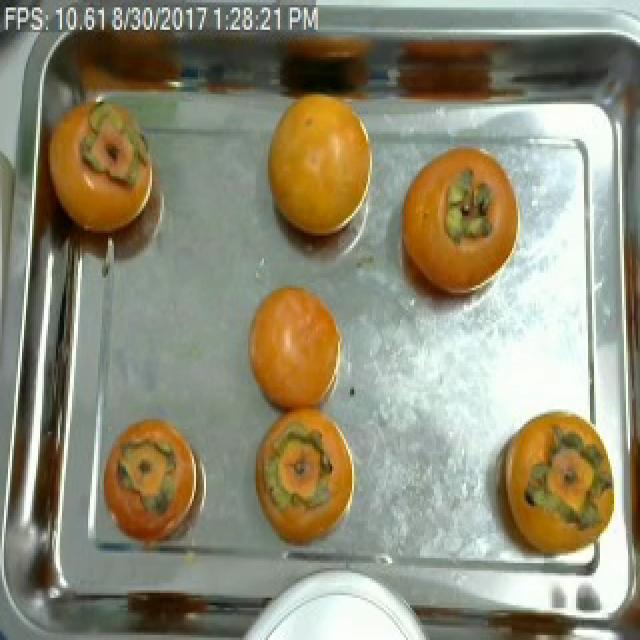Fruit: (484, 400, 614, 590), (390, 137, 526, 310), (242, 394, 368, 566), (44, 77, 170, 248), (256, 82, 380, 250), (86, 404, 218, 561), (236, 275, 348, 427)
